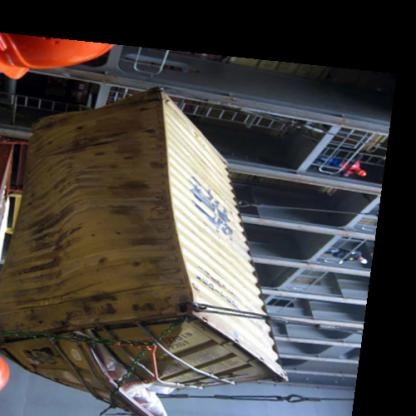Damage: (14, 177, 74, 314), (101, 336, 189, 416), (52, 112, 148, 182)
